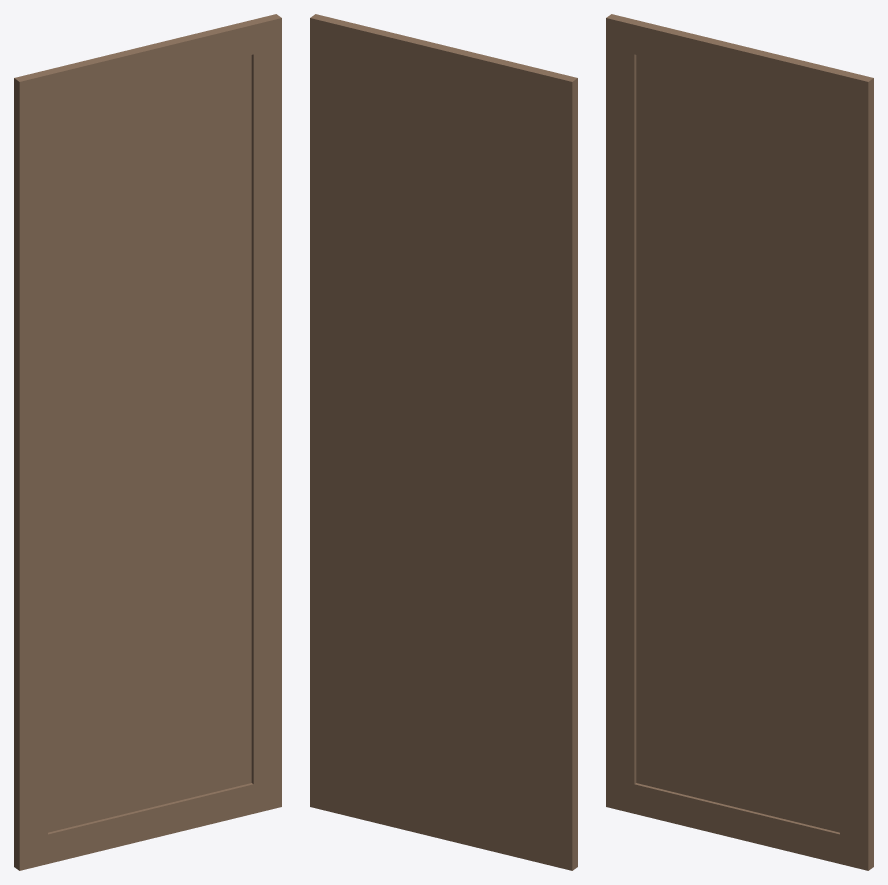
Rendered from door_09.obj.
3 renders of one model, left to right at view 1: azimuth 30°, elevation 25°; view 2: azimuth 150°, elevation 25°; view 3: azimuth 330°, elevation 25°, orthographic.
Parts seen in each view (by area): view 1: door_09; view 2: door_09; view 3: door_09.
Boxes of the visible parts, bbox=[...] form: door_09: bbox=[14, 14, 281, 870]; door_09: bbox=[310, 14, 577, 870]; door_09: bbox=[606, 14, 873, 870].
Size of the model in its own units: 530 by 1524 by 19.05.
